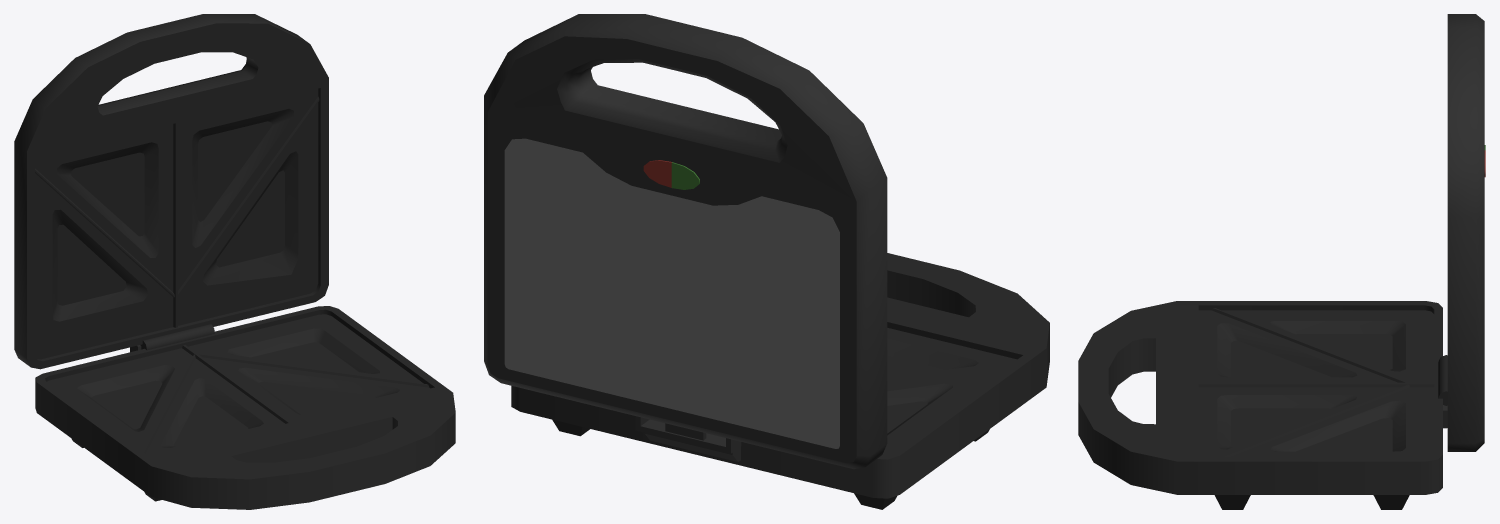
Rendered from Sandwichmaker_01.fbx.
The picture shows the model from 3 angles, left to right: view 1: azimuth 30°, elevation 25°; view 2: azimuth 150°, elevation 25°; view 3: azimuth 270°, elevation 25°; orthographic projection. The views are drawn at different scales.
Visible parts, largest first — view 1: Sandwichmaker_01; view 2: Sandwichmaker_01; view 3: Sandwichmaker_01.
Boxes of the visible parts, x1,y1,x2,y2 form: Sandwichmaker_01: (14,14,455,509); Sandwichmaker_01: (484,14,1049,509); Sandwichmaker_01: (1078,14,1485,509).
Bounding box in the file's own units: 0.2965 × 0.3403 × 0.3183.
